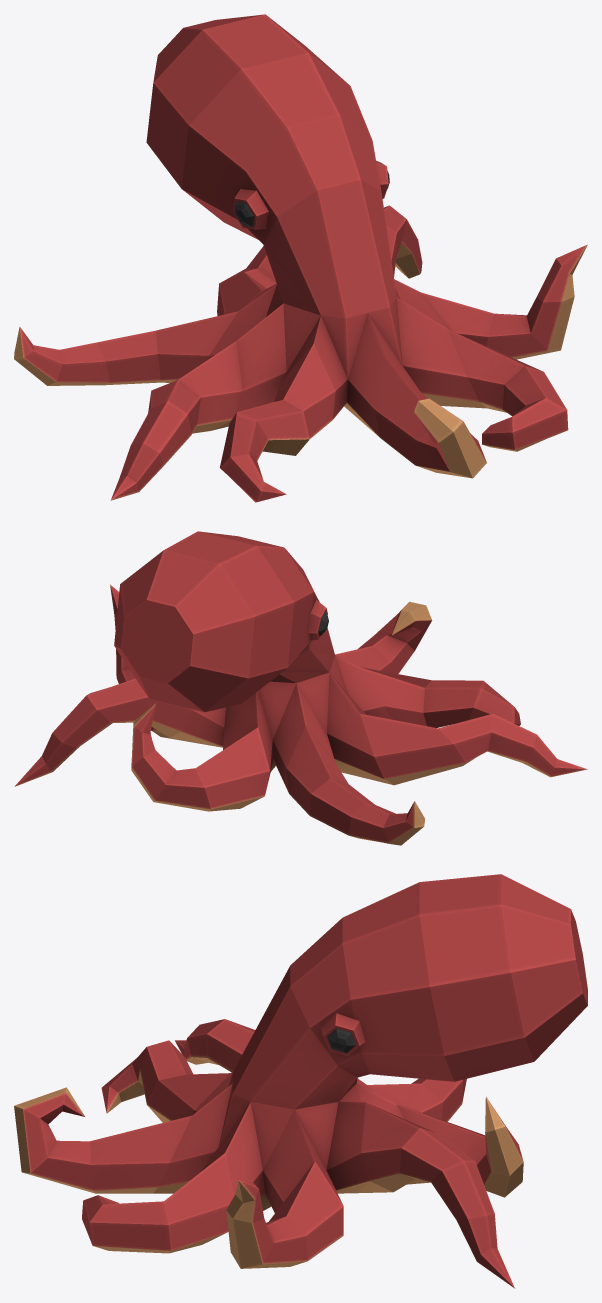
Rendered from octopus.glb.
The picture shows the model from 3 angles, top to bottom: view 1: azimuth 30°, elevation 25°; view 2: azimuth 150°, elevation 25°; view 3: azimuth 270°, elevation 25°; orthographic projection. The views are drawn at different scales.
Visible parts, largest first — view 1: Octopus_mesh; view 2: Octopus_mesh; view 3: Octopus_mesh.
Boxes of the visible parts, x1,y1,x2,y2 form: Octopus_mesh: [14, 14, 587, 502]; Octopus_mesh: [14, 531, 587, 845]; Octopus_mesh: [14, 874, 587, 1288].
Bounding box in the file's own units: 17.74 × 10.08 × 17.24.
1 material, 1 textured.
